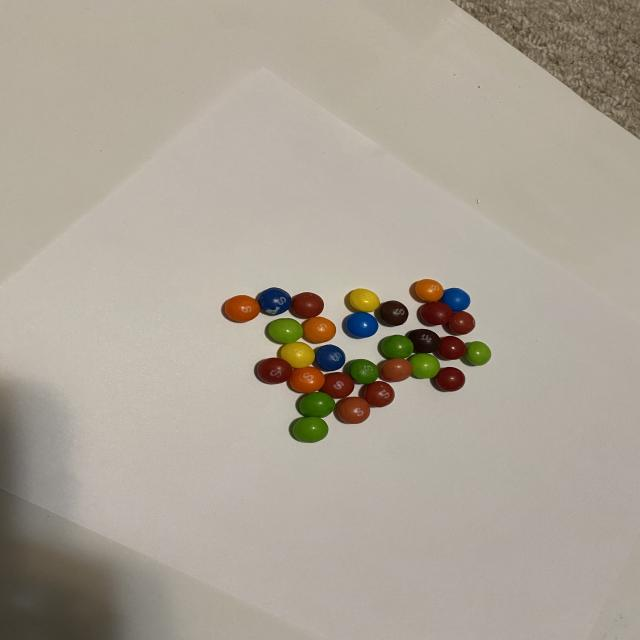smartie: (257, 287, 291, 315), (224, 295, 259, 322), (292, 417, 328, 443), (289, 367, 325, 393), (256, 358, 292, 384), (320, 372, 354, 399), (268, 318, 303, 344), (280, 342, 315, 368), (299, 393, 335, 418), (337, 397, 370, 424), (302, 317, 336, 343), (345, 312, 378, 338), (291, 292, 324, 318), (364, 381, 395, 408), (315, 344, 345, 371), (408, 354, 440, 379), (420, 302, 454, 325), (408, 329, 440, 353), (381, 335, 414, 358), (379, 300, 408, 326), (349, 359, 379, 384), (440, 288, 471, 312), (349, 288, 380, 312), (381, 359, 413, 382), (436, 367, 465, 392), (438, 336, 466, 360), (466, 341, 492, 366), (449, 311, 476, 335), (415, 279, 443, 302)
